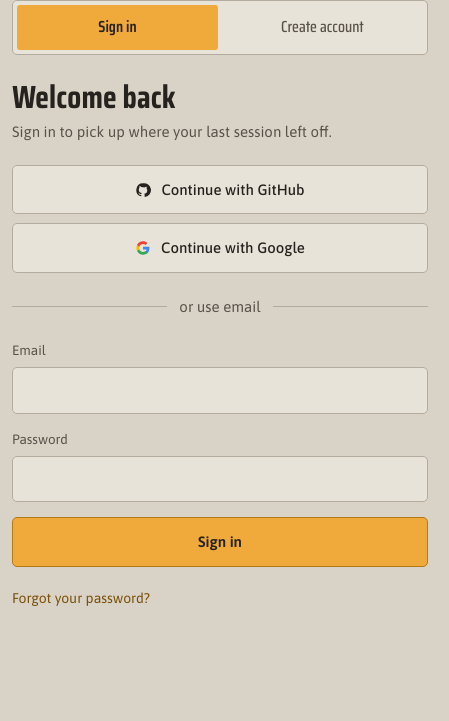
Test: submitting › clears a previous error when switching tabs
In the field labelled "Email": (220, 390) left=12, top=367, right=428, bottom=414, type "reader@example.com"
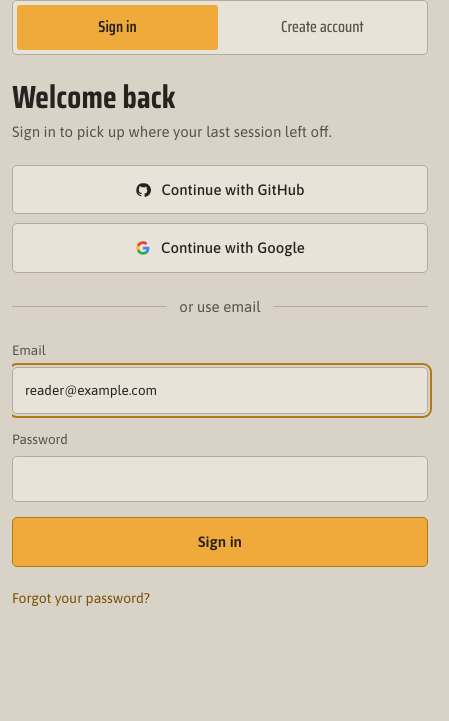
In the password field labelled "Password": (220, 479) left=12, top=456, right=428, bottom=502, type "wrong one here"
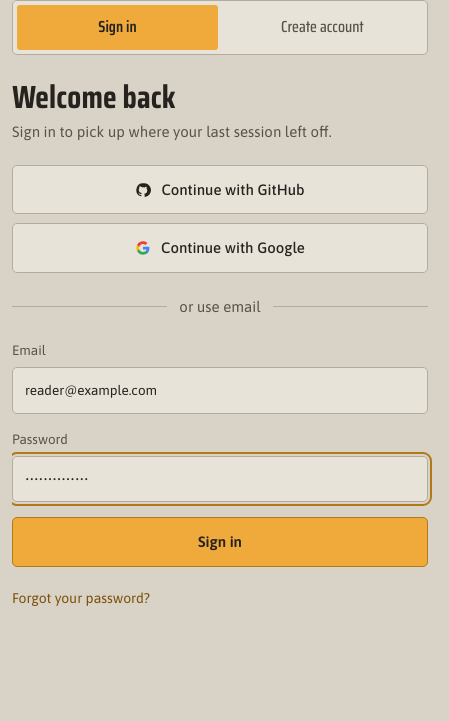
Click the button "Sign in": (220, 542) left=12, top=517, right=428, bottom=567
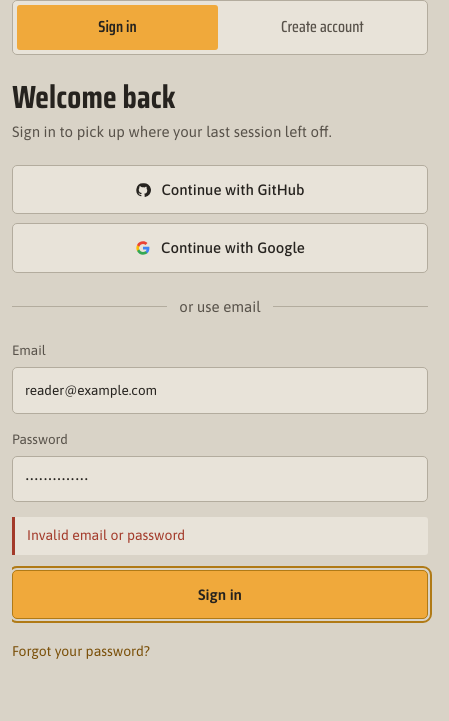
Result: the text "Invalid email or password" is shown at left=12, top=517, right=428, bottom=555
Click the tab "Create account": (322, 27) left=222, top=5, right=423, bottom=50
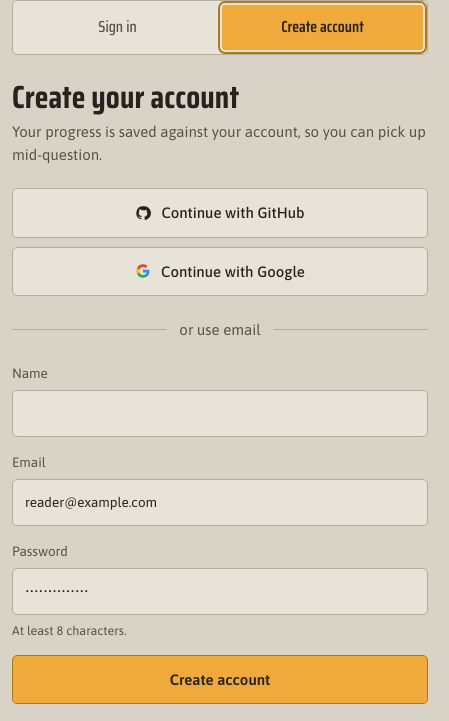
Result: the text "Invalid email or password" is gone
